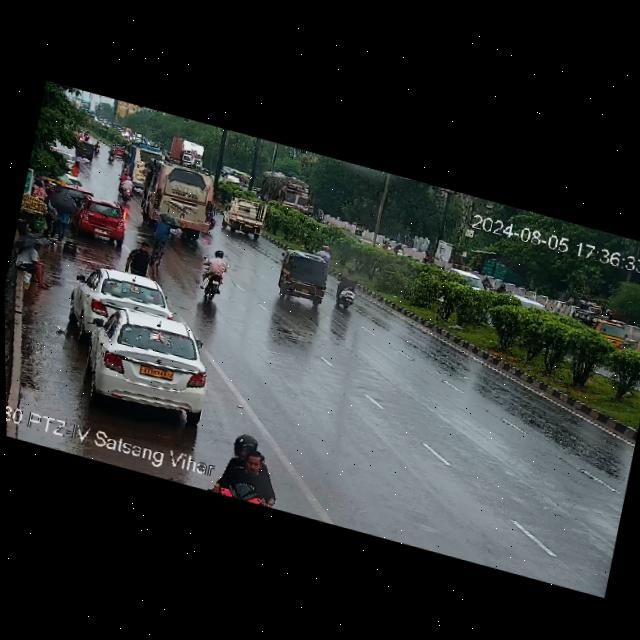bus: (135, 151, 224, 246), (116, 137, 168, 197)
car: (74, 297, 219, 427), (67, 259, 173, 345), (272, 244, 335, 310), (70, 195, 128, 244), (568, 306, 632, 349)
motorcycle: (208, 428, 291, 509), (195, 245, 237, 309), (334, 263, 361, 313), (117, 174, 137, 206), (393, 239, 407, 260), (496, 280, 511, 295), (106, 148, 118, 166), (91, 140, 103, 158), (481, 274, 493, 292), (83, 130, 91, 142)
person: (8, 234, 63, 293), (40, 183, 78, 244), (125, 236, 160, 281), (71, 154, 85, 178)
truck: (258, 165, 320, 219), (219, 193, 271, 239), (166, 133, 209, 169)
